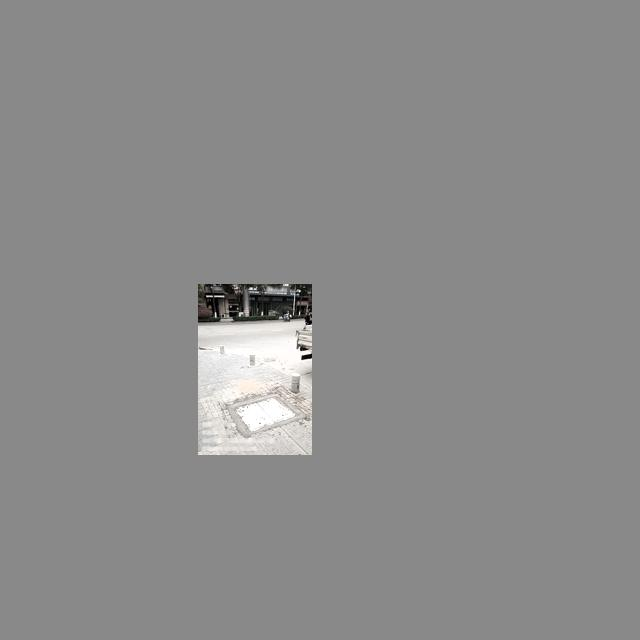good: (229, 396, 298, 430)
